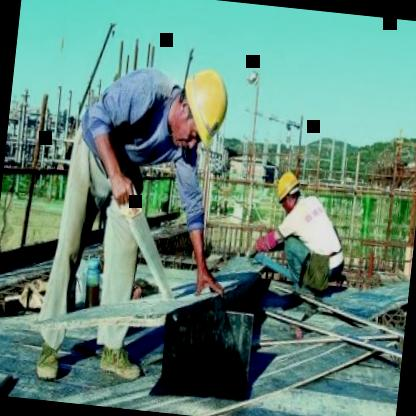helmet: (163, 59, 233, 157), (270, 164, 304, 218)
